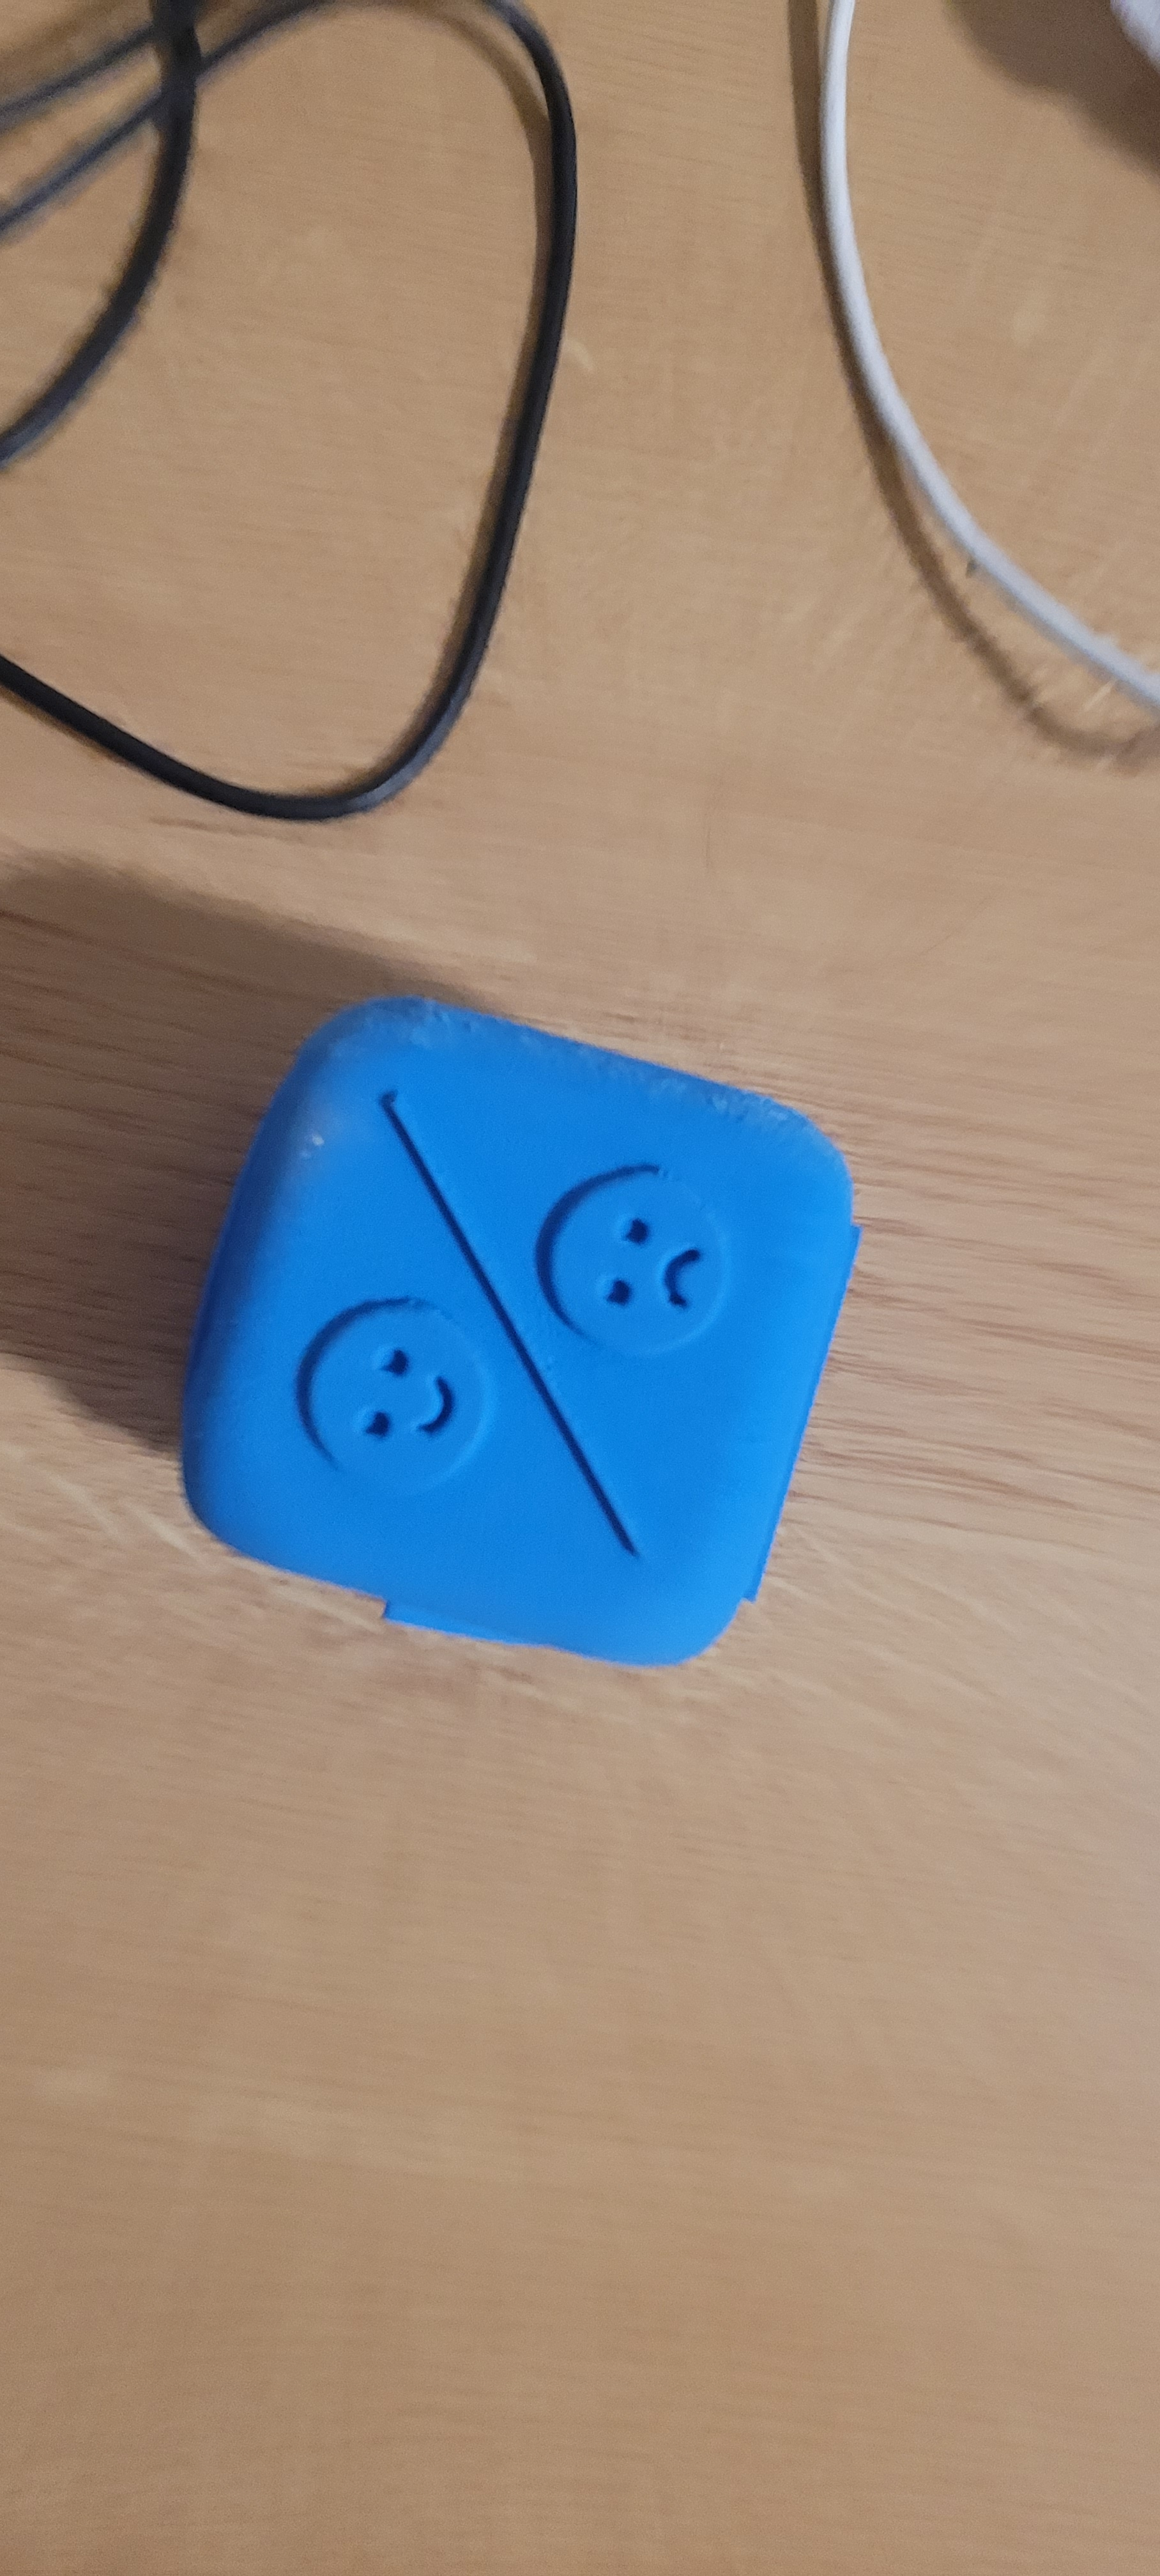Like/Dislike: (294, 1004, 774, 1636)
